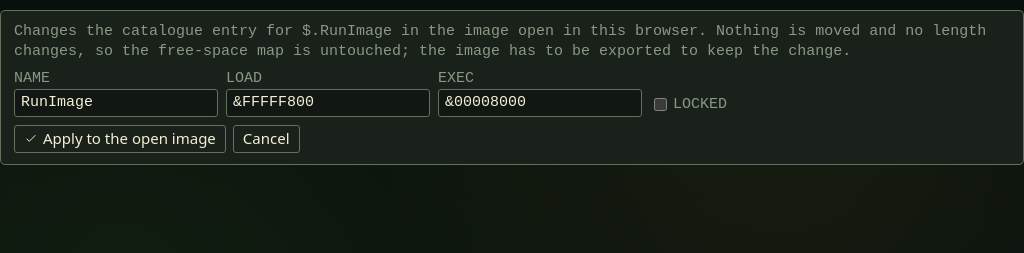
it: changing one ADFS entry › refuses an address that is not hexadecimal, saying what one looks like
Replace the text in the field named "Load address of" with "not hex" at (328, 102), box [226,88,430,116]
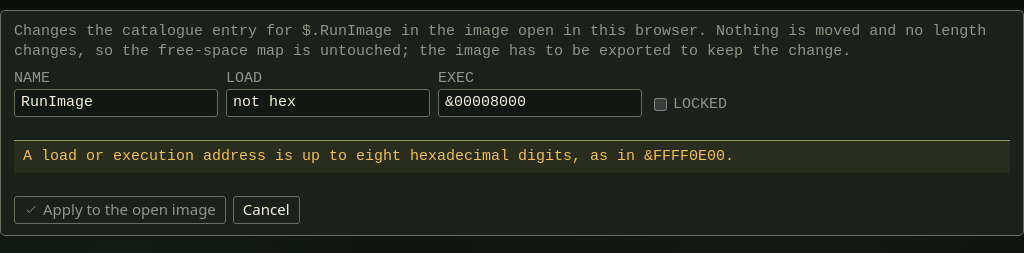
Expected: the message shows "eight hexadecimal digits", [23,148,734,164]
Expected: the button "Apply to the open image" is disabled, [14,196,226,224]
